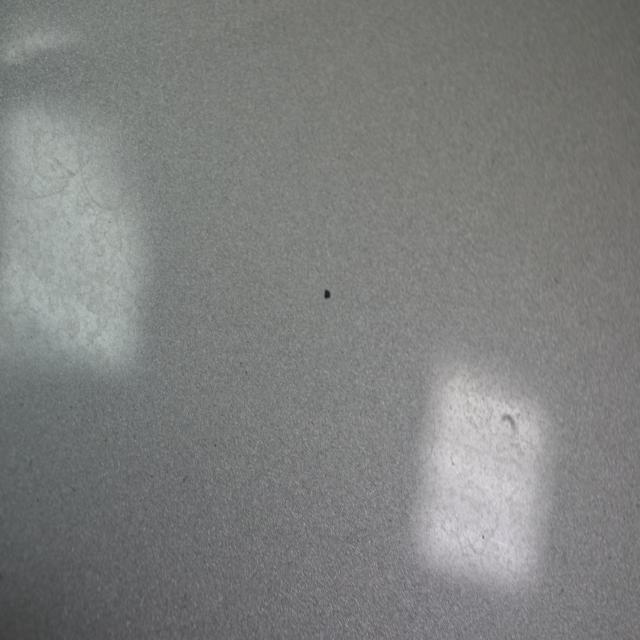dirt: (322, 286, 334, 304)
water marks: (3, 208, 132, 378), (452, 393, 531, 510), (432, 468, 512, 568), (4, 121, 78, 202), (70, 129, 131, 218), (408, 394, 452, 476)
